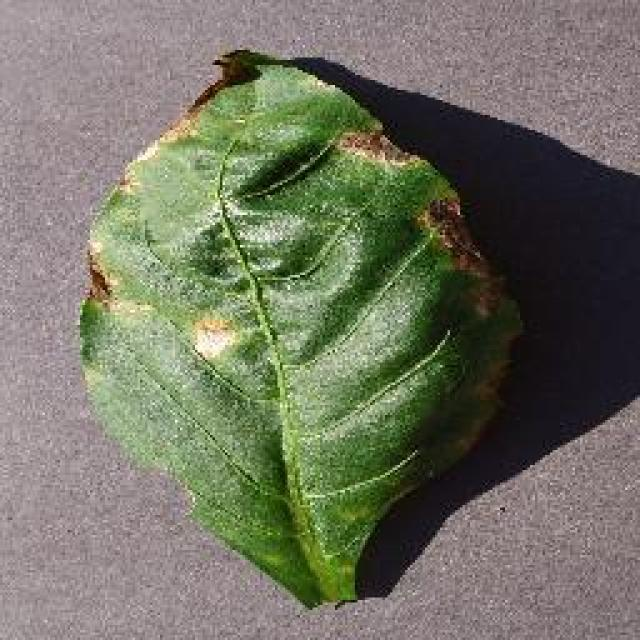Chilli_Bacterial_Spot: (73, 45, 525, 610), (413, 190, 505, 320), (175, 300, 257, 375), (332, 125, 412, 167), (185, 313, 243, 365), (80, 238, 115, 302), (208, 45, 260, 87)
